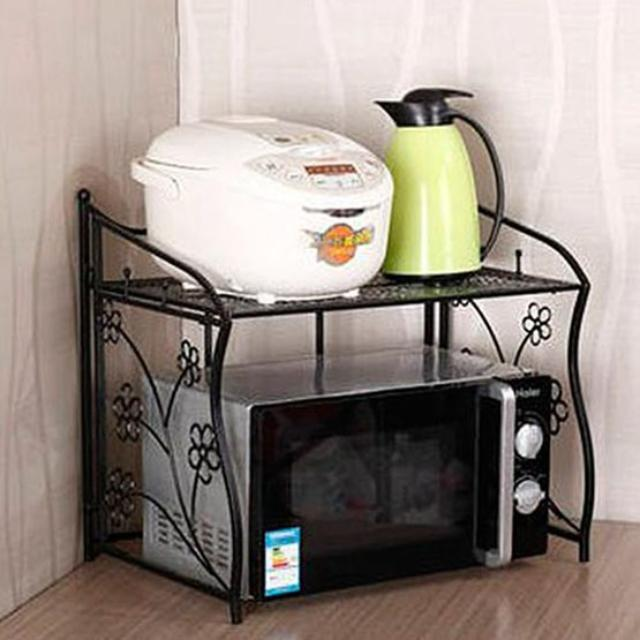Microwave: (140, 344, 560, 604)
